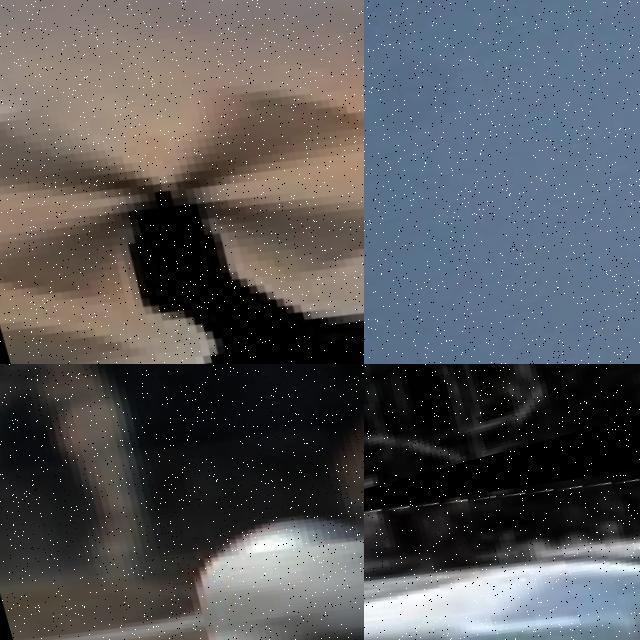0: (0, 364, 364, 640), (364, 374, 640, 640)
drone: (0, 0, 364, 364)
